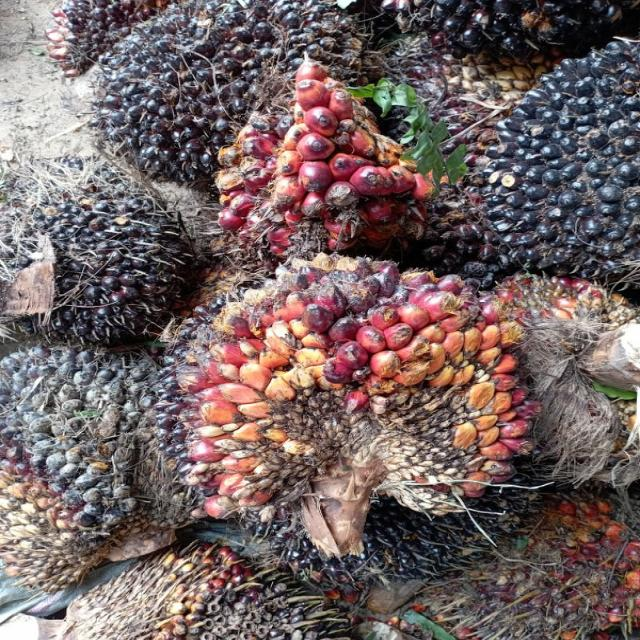fraksi 00: (34, 0, 375, 226), (0, 125, 262, 390)
fraksi 1: (189, 44, 478, 276)
fraksi 3: (136, 225, 576, 568)
